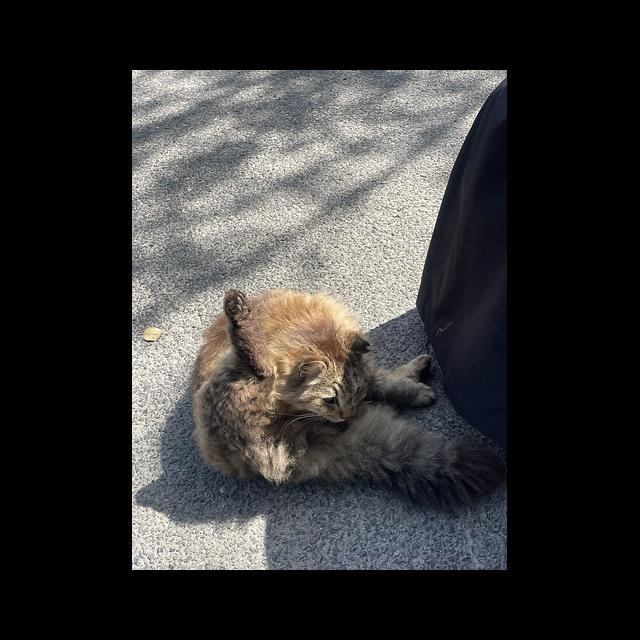animals: (193, 288, 507, 507)
